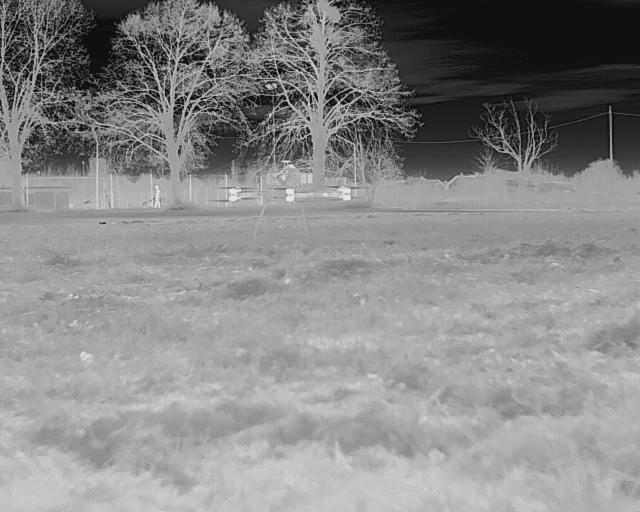drone: (206, 169, 374, 242)
